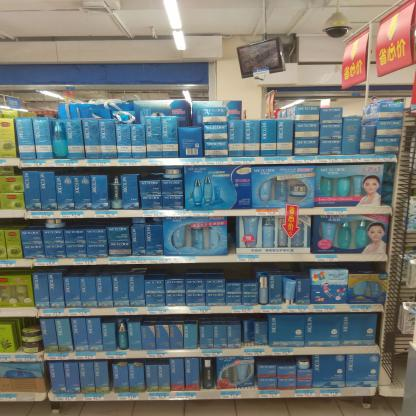Void: (148, 264, 250, 277), (244, 101, 292, 119), (261, 262, 308, 275), (347, 260, 384, 274), (345, 97, 368, 114), (258, 356, 294, 366)
